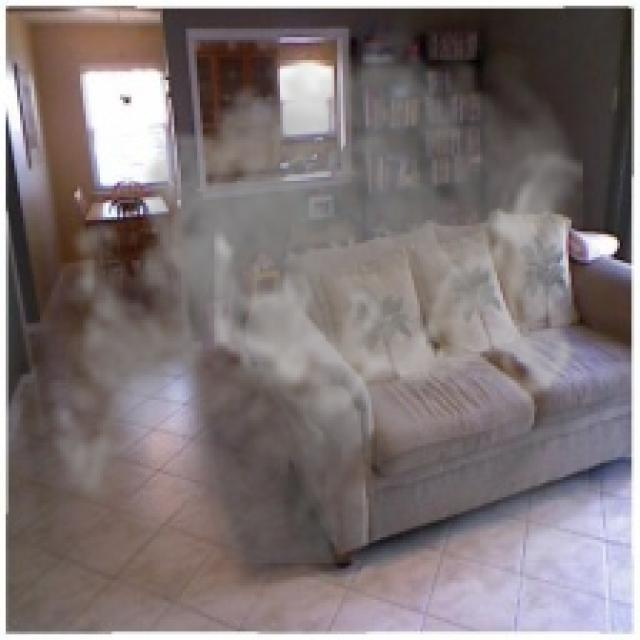Smoke: (34, 8, 589, 563)
